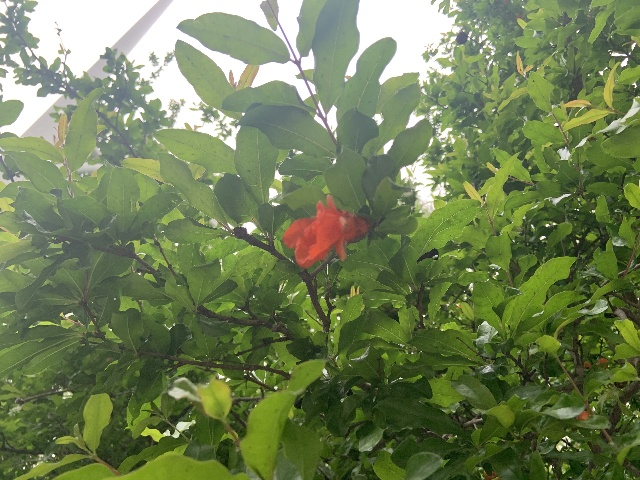bud: (576, 410, 590, 420), (596, 358, 608, 369)
flower: (282, 194, 370, 268)
